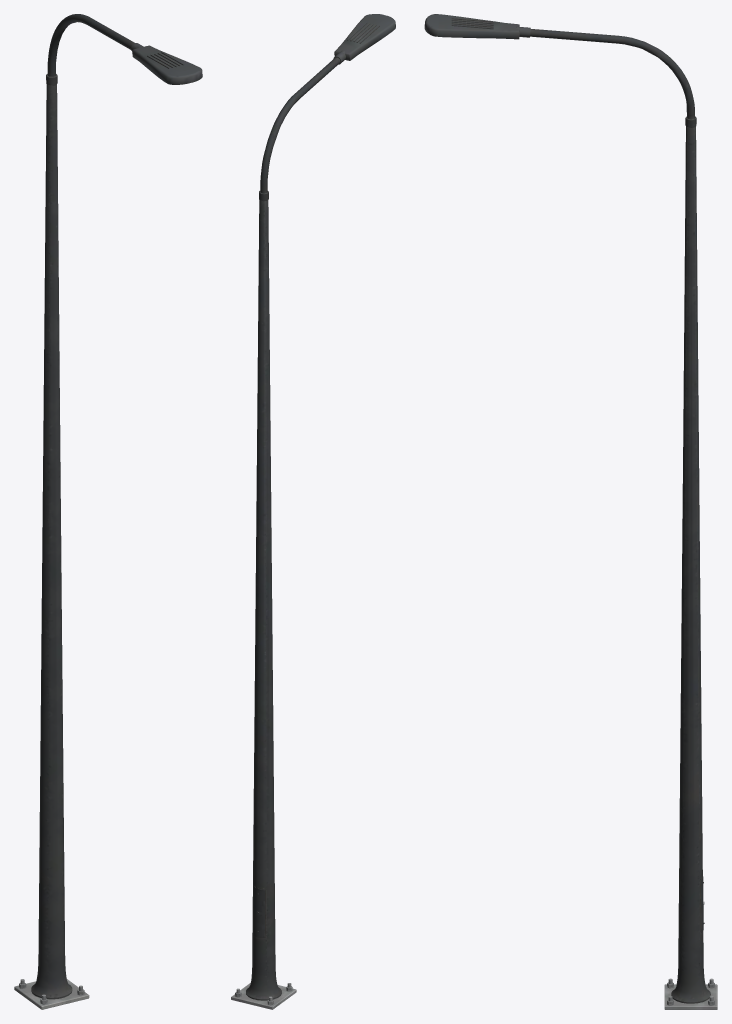
The model's file is street-light.glb.
The picture shows the model from 3 angles, left to right: view 1: azimuth 30°, elevation 25°; view 2: azimuth 150°, elevation 25°; view 3: azimuth 270°, elevation 25°; orthographic projection. The views are drawn at different scales.
Parts seen in each view (by area): view 1: street-light_body; view 2: street-light_body; view 3: street-light_body.
Boxes of the visible parts, left/top/right/bottom form: street-light_body: left=14, top=14, right=202, bottom=1009; street-light_body: left=231, top=14, right=395, bottom=1009; street-light_body: left=424, top=14, right=717, bottom=1009.
Size of the model in its own units: 0.4003 by 8.16 by 2.21.
2 materials, 2 textured.
